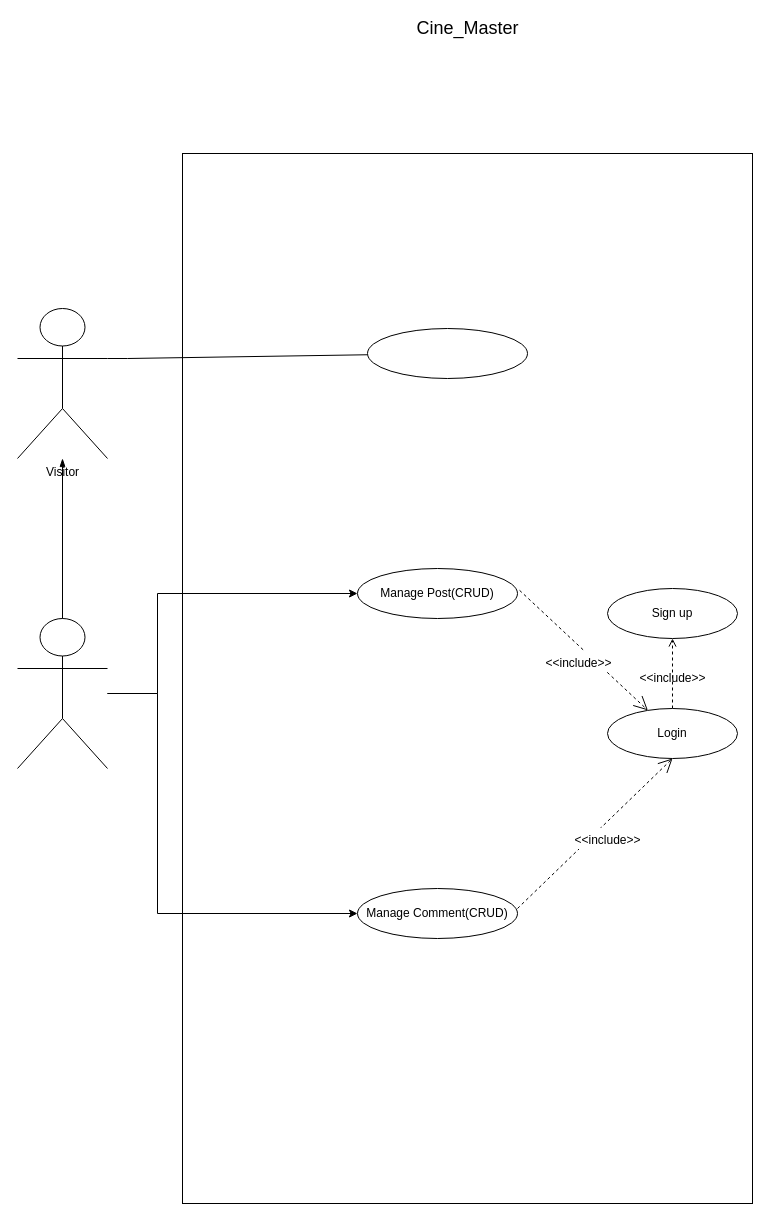
Image size: 770x1221. Some labels were removed from this diagram. Each missing label, with the centre of its shape:
"See Posts" belongs at pixel 447 353.
"USER" belongs at pixel 62 693.
